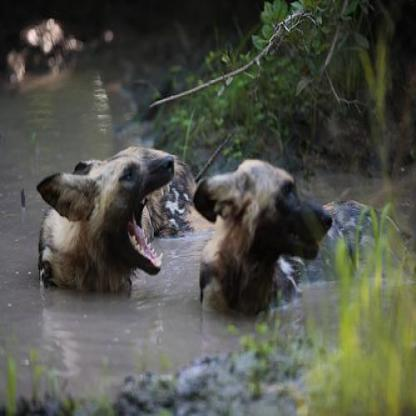African_hunting_dog: (191, 160, 336, 323), (36, 148, 176, 294)
